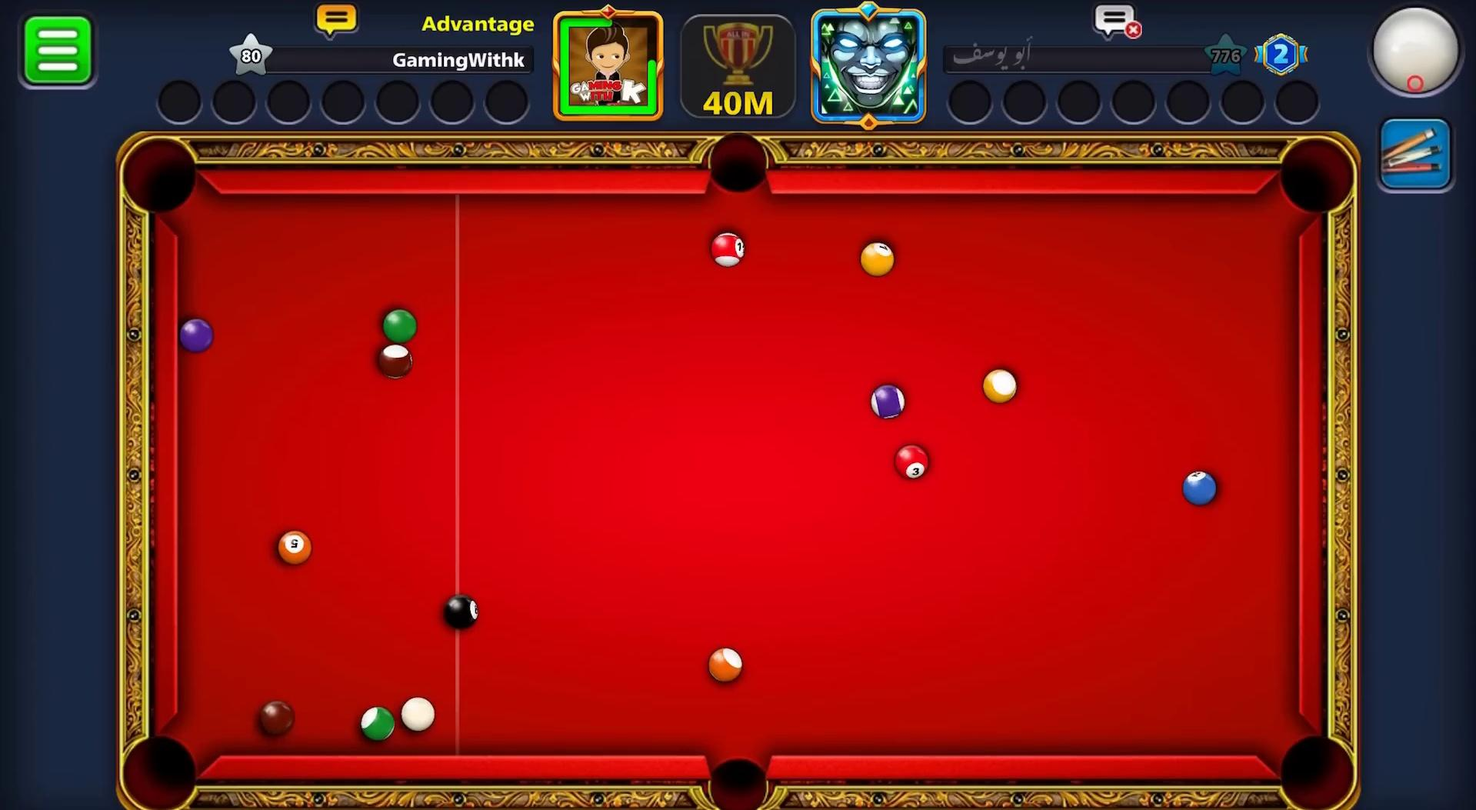Ball: (698, 213, 756, 277), (358, 337, 427, 390), (850, 229, 908, 285), (168, 304, 226, 359), (374, 285, 423, 346), (866, 377, 915, 434), (435, 584, 490, 634), (251, 689, 302, 742), (1175, 460, 1224, 514), (887, 438, 942, 486), (351, 699, 398, 751), (978, 355, 1020, 410), (270, 523, 313, 571), (705, 646, 748, 690)
Hole: (102, 122, 221, 238), (1249, 719, 1380, 810), (1266, 125, 1366, 232), (102, 718, 218, 810), (687, 124, 798, 211), (690, 740, 788, 810)
Play_Area: (178, 193, 1299, 755)
Spin: (1364, 0, 1476, 110)
White: (399, 686, 457, 738)
